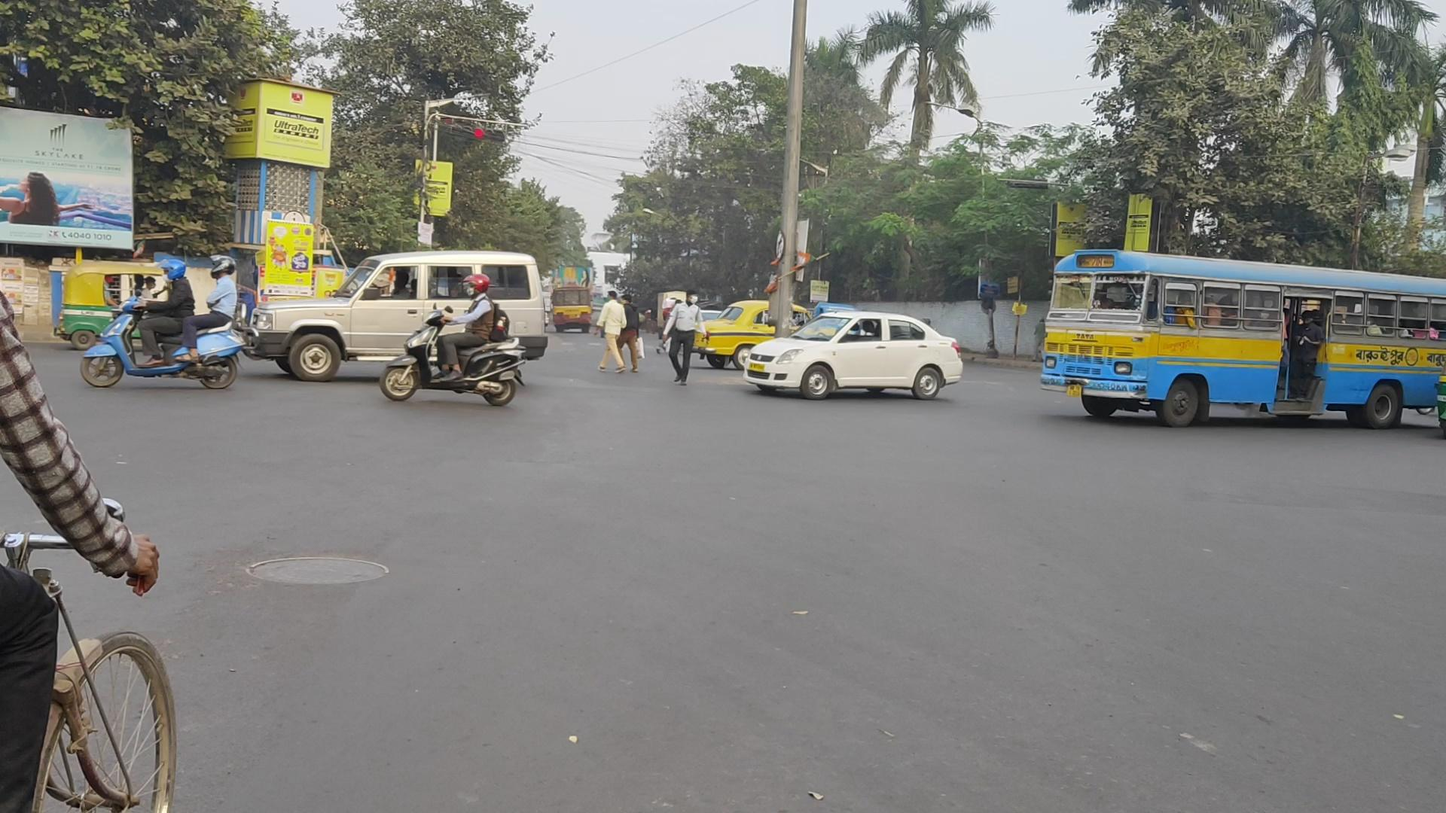Auto: (53, 261, 183, 350)
Bus: (1040, 249, 1446, 429), (552, 286, 593, 334)
bike: (79, 254, 246, 390), (379, 274, 526, 407)
car: (245, 250, 550, 383), (744, 311, 962, 400), (691, 299, 842, 373)
